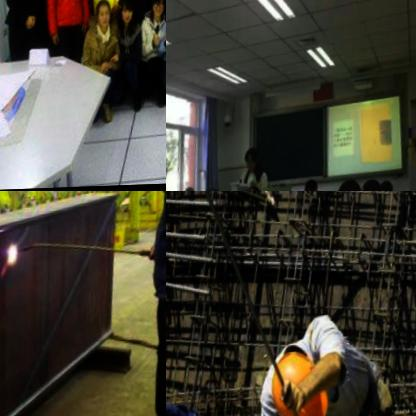head: (334, 173, 371, 191), (96, 0, 117, 26), (244, 146, 264, 173), (119, 0, 140, 22), (363, 176, 388, 191), (240, 180, 268, 191), (151, 0, 166, 19), (305, 175, 322, 191), (379, 180, 399, 191), (180, 183, 204, 191)
helmet: (258, 337, 343, 416)
